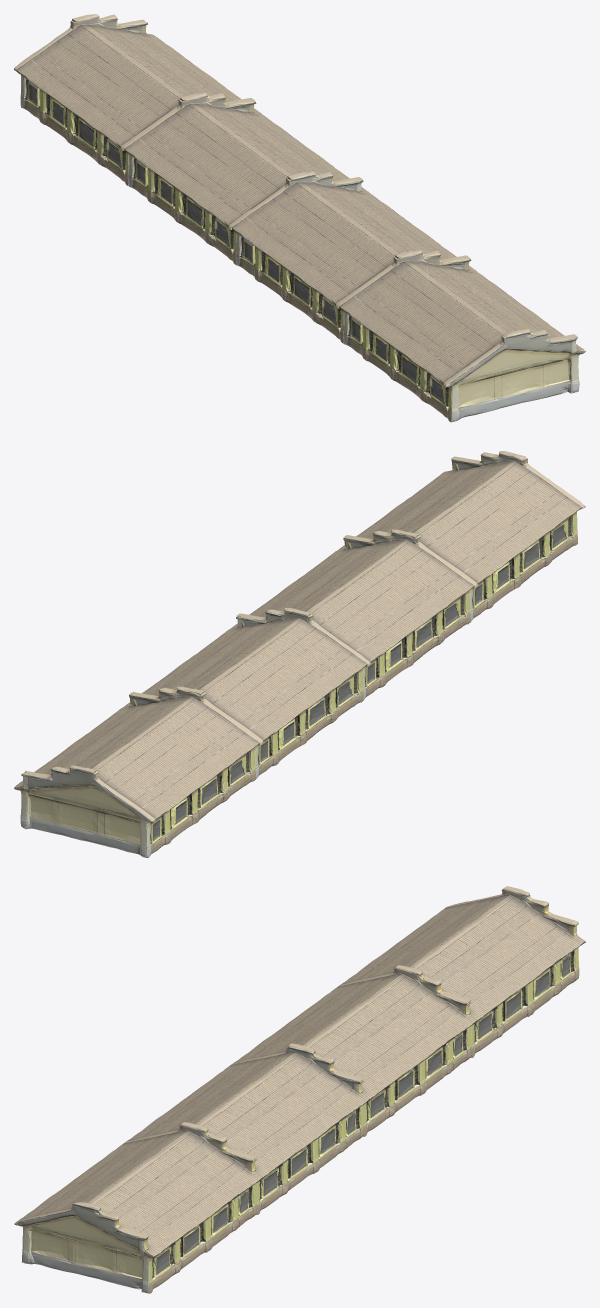
The model's file is EcLabsParamGap.glb.
3 views of the same model, one above another, from view 1: azimuth 30°, elevation 25°; view 2: azimuth 150°, elevation 25°; view 3: azimuth 330°, elevation 25° (orthographic).
Parts seen in each view (by area): view 1: tripo_node_10db6ebb-d88b-41a6-99f3-9fc83eae1d02.002, tripo_node_10db6ebb-d88b-41a6-99f3-9fc83eae1d02, tripo_node_10db6ebb-d88b-41a6-99f3-9fc83eae1d02.003, tripo_node_10db6ebb-d88b-41a6-99f3-9fc83eae1d02.001; view 2: tripo_node_10db6ebb-d88b-41a6-99f3-9fc83eae1d02.003, tripo_node_10db6ebb-d88b-41a6-99f3-9fc83eae1d02.001, tripo_node_10db6ebb-d88b-41a6-99f3-9fc83eae1d02.002, tripo_node_10db6ebb-d88b-41a6-99f3-9fc83eae1d02; view 3: tripo_node_10db6ebb-d88b-41a6-99f3-9fc83eae1d02.002, tripo_node_10db6ebb-d88b-41a6-99f3-9fc83eae1d02, tripo_node_10db6ebb-d88b-41a6-99f3-9fc83eae1d02.003, tripo_node_10db6ebb-d88b-41a6-99f3-9fc83eae1d02.001.
Boxes of the visible parts, x1,y1,x2,y2 form: tripo_node_10db6ebb-d88b-41a6-99f3-9fc83eae1d02.002: [338, 250, 585, 422]; tripo_node_10db6ebb-d88b-41a6-99f3-9fc83eae1d02: [123, 93, 369, 264]; tripo_node_10db6ebb-d88b-41a6-99f3-9fc83eae1d02.003: [14, 14, 261, 185]; tripo_node_10db6ebb-d88b-41a6-99f3-9fc83eae1d02.001: [230, 172, 477, 343]; tripo_node_10db6ebb-d88b-41a6-99f3-9fc83eae1d02.003: [14, 686, 263, 857]; tripo_node_10db6ebb-d88b-41a6-99f3-9fc83eae1d02.001: [231, 529, 478, 699]; tripo_node_10db6ebb-d88b-41a6-99f3-9fc83eae1d02.002: [338, 451, 585, 621]; tripo_node_10db6ebb-d88b-41a6-99f3-9fc83eae1d02: [124, 608, 371, 778]; tripo_node_10db6ebb-d88b-41a6-99f3-9fc83eae1d02.002: [14, 1122, 263, 1293]; tripo_node_10db6ebb-d88b-41a6-99f3-9fc83eae1d02: [233, 965, 478, 1136]; tripo_node_10db6ebb-d88b-41a6-99f3-9fc83eae1d02.003: [340, 886, 585, 1057]; tripo_node_10db6ebb-d88b-41a6-99f3-9fc83eae1d02.001: [125, 1043, 370, 1214].
Size of the model in its own units: 0.7262 by 0.3692 by 3.88.
Materials: 4 (4 with a texture image).
